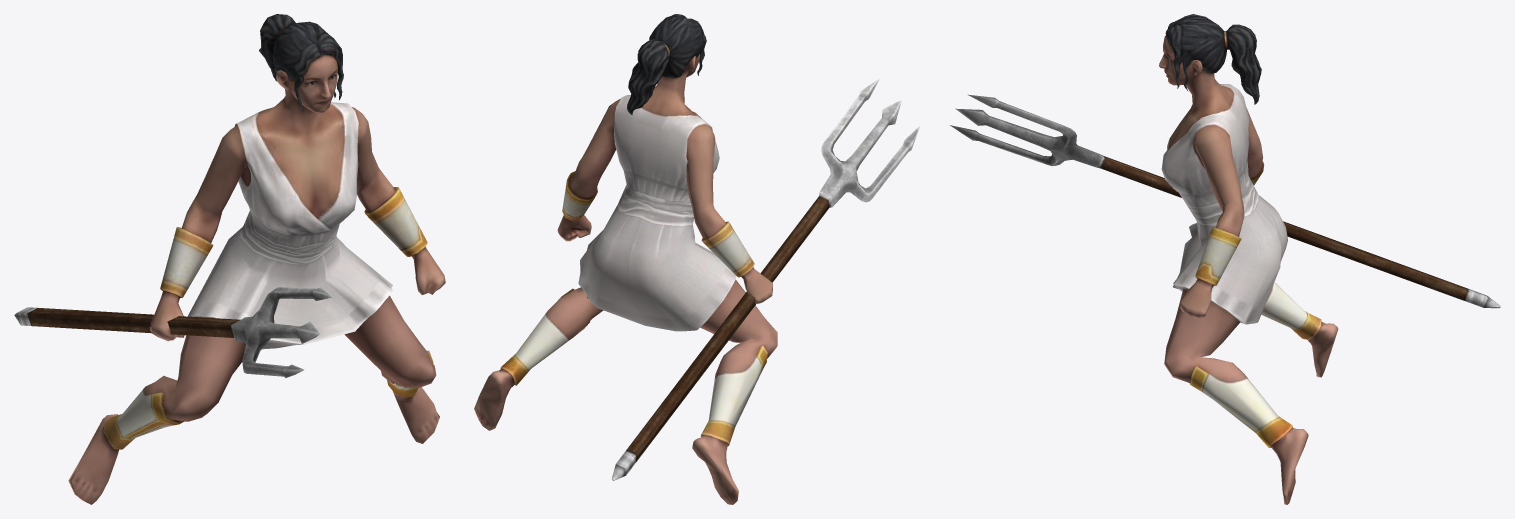
Rendered from rider-base.glb.
3 renders of one model, left to right at view 1: azimuth 30°, elevation 25°; view 2: azimuth 150°, elevation 25°; view 3: azimuth 270°, elevation 25°, orthographic. The views are drawn at different scales.
Size of the model in its own units: 1.31 by 1.81 by 2.18.
Materials: 2 (2 with a texture image).
